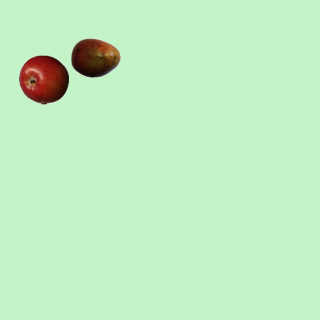Apple Braeburn: (18, 54, 68, 104)
Mango Red: (70, 32, 120, 82)
